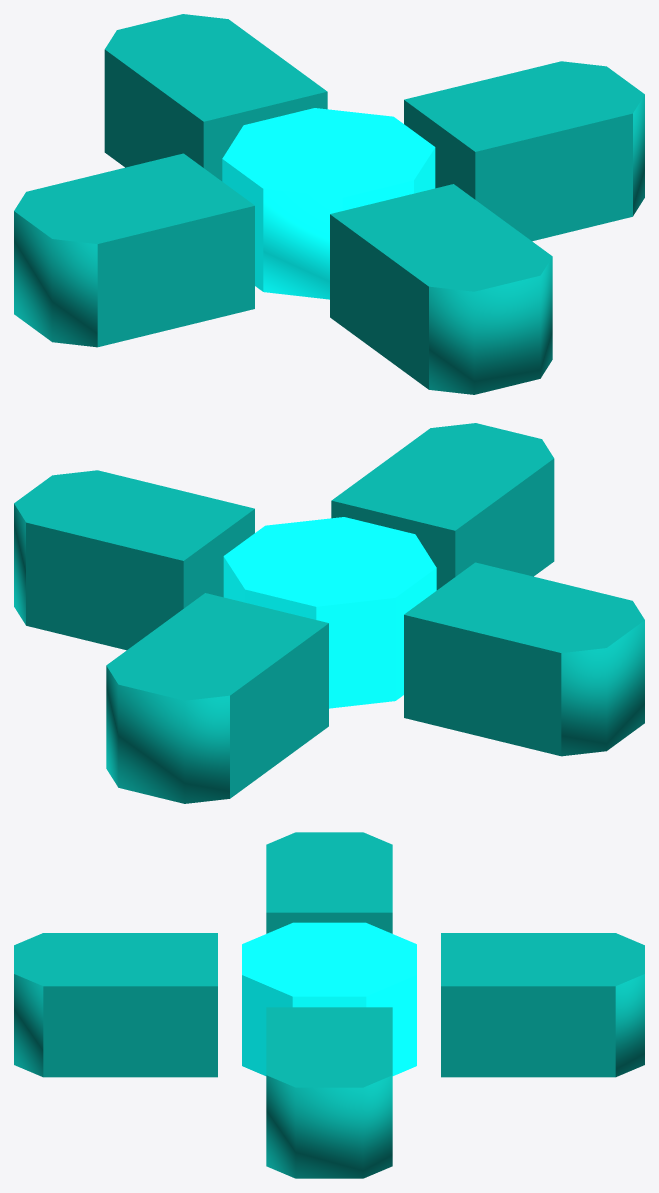
Rendered from silver_pharaoh.gltf.
3 renders of one model, top to bottom at view 1: azimuth 30°, elevation 25°; view 2: azimuth 150°, elevation 25°; view 3: azimuth 270°, elevation 25°, orthographic. The views are drawn at different scales.
Parts seen in each view (by area): view 1: icon_pharaoh_silver; view 2: icon_pharaoh_silver; view 3: icon_pharaoh_silver.
Part boxes in pixels (x1=…): icon_pharaoh_silver: x1=14, y1=14, x2=644, y2=394; icon_pharaoh_silver: x1=14, y1=423, x2=644, y2=803; icon_pharaoh_silver: x1=14, y1=832, x2=644, y2=1178.
Size of the model in its own units: 2.03 by 0.3378 by 2.12.
2 materials, 2 textured.
